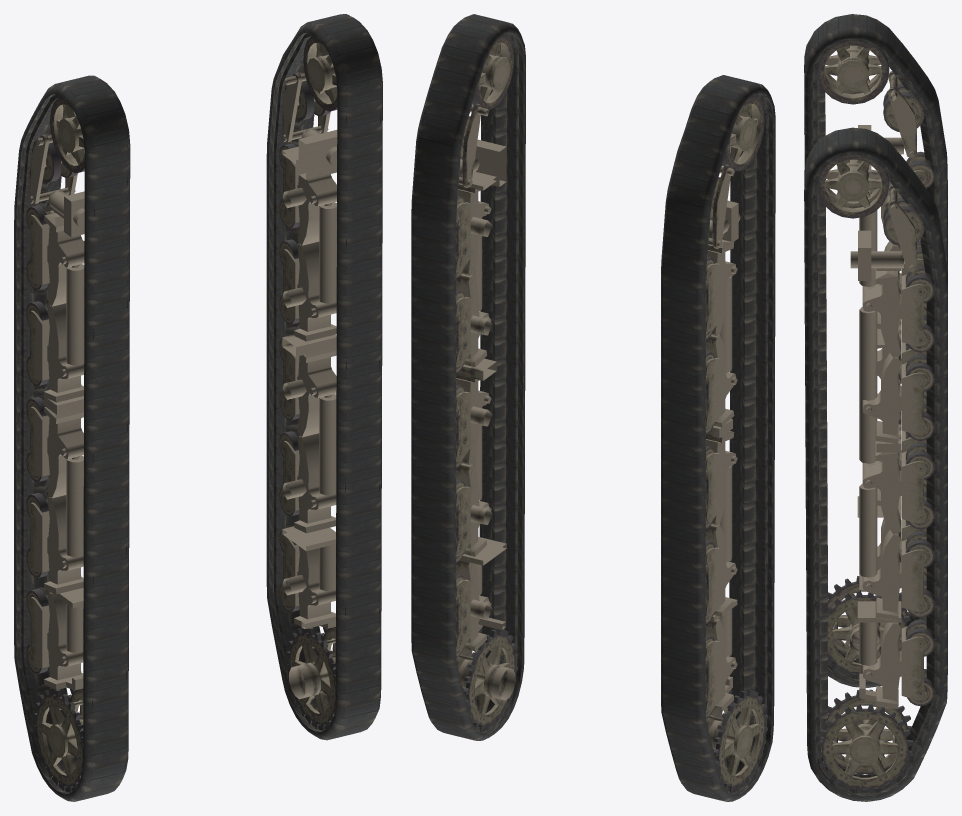
The model's file is Chassis.glb.
The picture shows the model from 3 angles, left to right: view 1: azimuth 30°, elevation 25°; view 2: azimuth 150°, elevation 25°; view 3: azimuth 270°, elevation 25°; orthographic projection. The views are drawn at different scales.
Parts seen in each view (by area): view 1: set_0_group_0, set_1_group_0, set_5_group_0, set_3_group_0, set_2_group_0, set_4_group_0; view 2: set_1_group_0, set_0_group_0, set_5_group_0, set_3_group_0, set_2_group_0, set_4_group_0; view 3: set_5_group_0, set_0_group_0, set_3_group_0, set_1_group_0, set_4_group_0.
Part boxes in pixels (left/top/right/bottom): set_0_group_0: left=266, top=14, right=382, bottom=740; set_1_group_0: left=14, top=75, right=130, bottom=801; set_5_group_0: left=279, top=36, right=337, bottom=730; set_3_group_0: left=26, top=98, right=84, bottom=792; set_2_group_0: left=28, top=597, right=42, bottom=668; set_4_group_0: left=281, top=535, right=295, bottom=606; set_1_group_0: left=661, top=75, right=775, bottom=801; set_0_group_0: left=411, top=14, right=525, bottom=740; set_5_group_0: left=456, top=36, right=517, bottom=731; set_3_group_0: left=706, top=97, right=767, bottom=792; set_2_group_0: left=706, top=641, right=720, bottom=711; set_4_group_0: left=456, top=580, right=470, bottom=650; set_5_group_0: left=816, top=154, right=934, bottom=793; set_0_group_0: left=804, top=127, right=947, bottom=801; set_3_group_0: left=817, top=41, right=934, bottom=679; set_1_group_0: left=804, top=14, right=947, bottom=687; set_4_group_0: left=901, top=626, right=927, bottom=700.
Bounding box in the file's own units: 2.47 × 5.62 × 1.11.
Materials: 6 (6 with a texture image).
